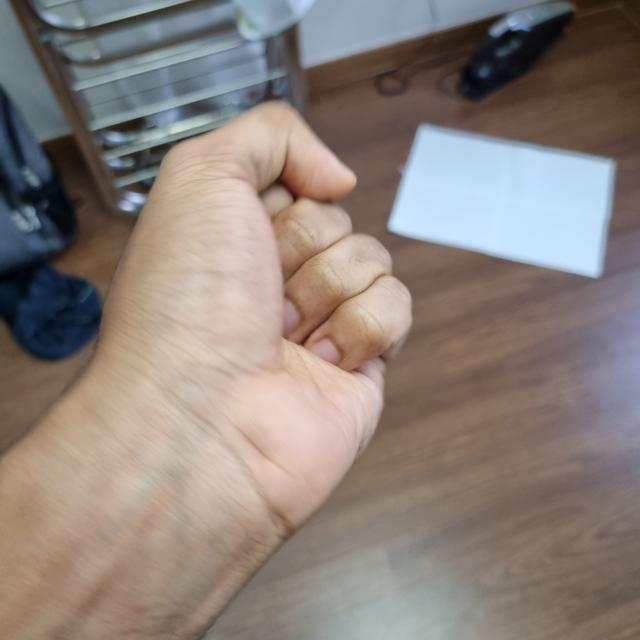Rock: (95, 109, 379, 530)
